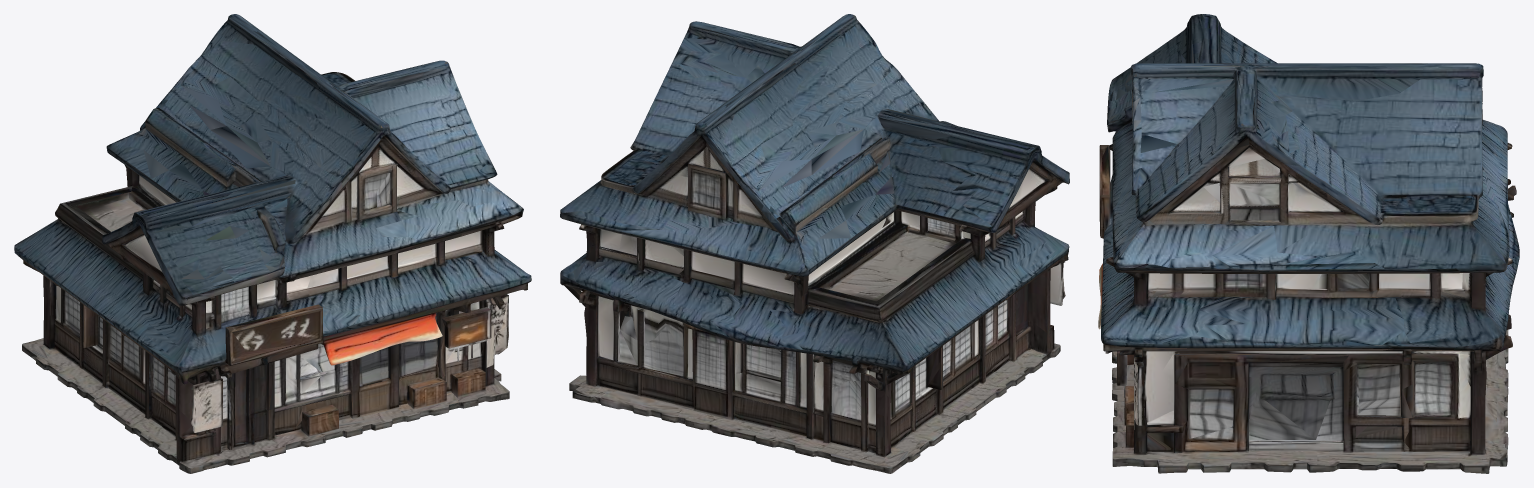
The model's file is bld_shop.glb.
The picture shows the model from 3 angles, left to right: view 1: azimuth 30°, elevation 25°; view 2: azimuth 150°, elevation 25°; view 3: azimuth 270°, elevation 25°; orthographic projection. The views are drawn at different scales.
Visible parts, largest first — view 1: node_0; view 2: node_0; view 3: node_0.
Part boxes in pixels (x1,y1,x2,y2): node_0: (14, 14, 531, 473); node_0: (560, 14, 1069, 473); node_0: (1098, 14, 1519, 473).
Bounding box in the file's own units: 5.33 × 4.3 × 4.84.
1 material, 1 textured.
